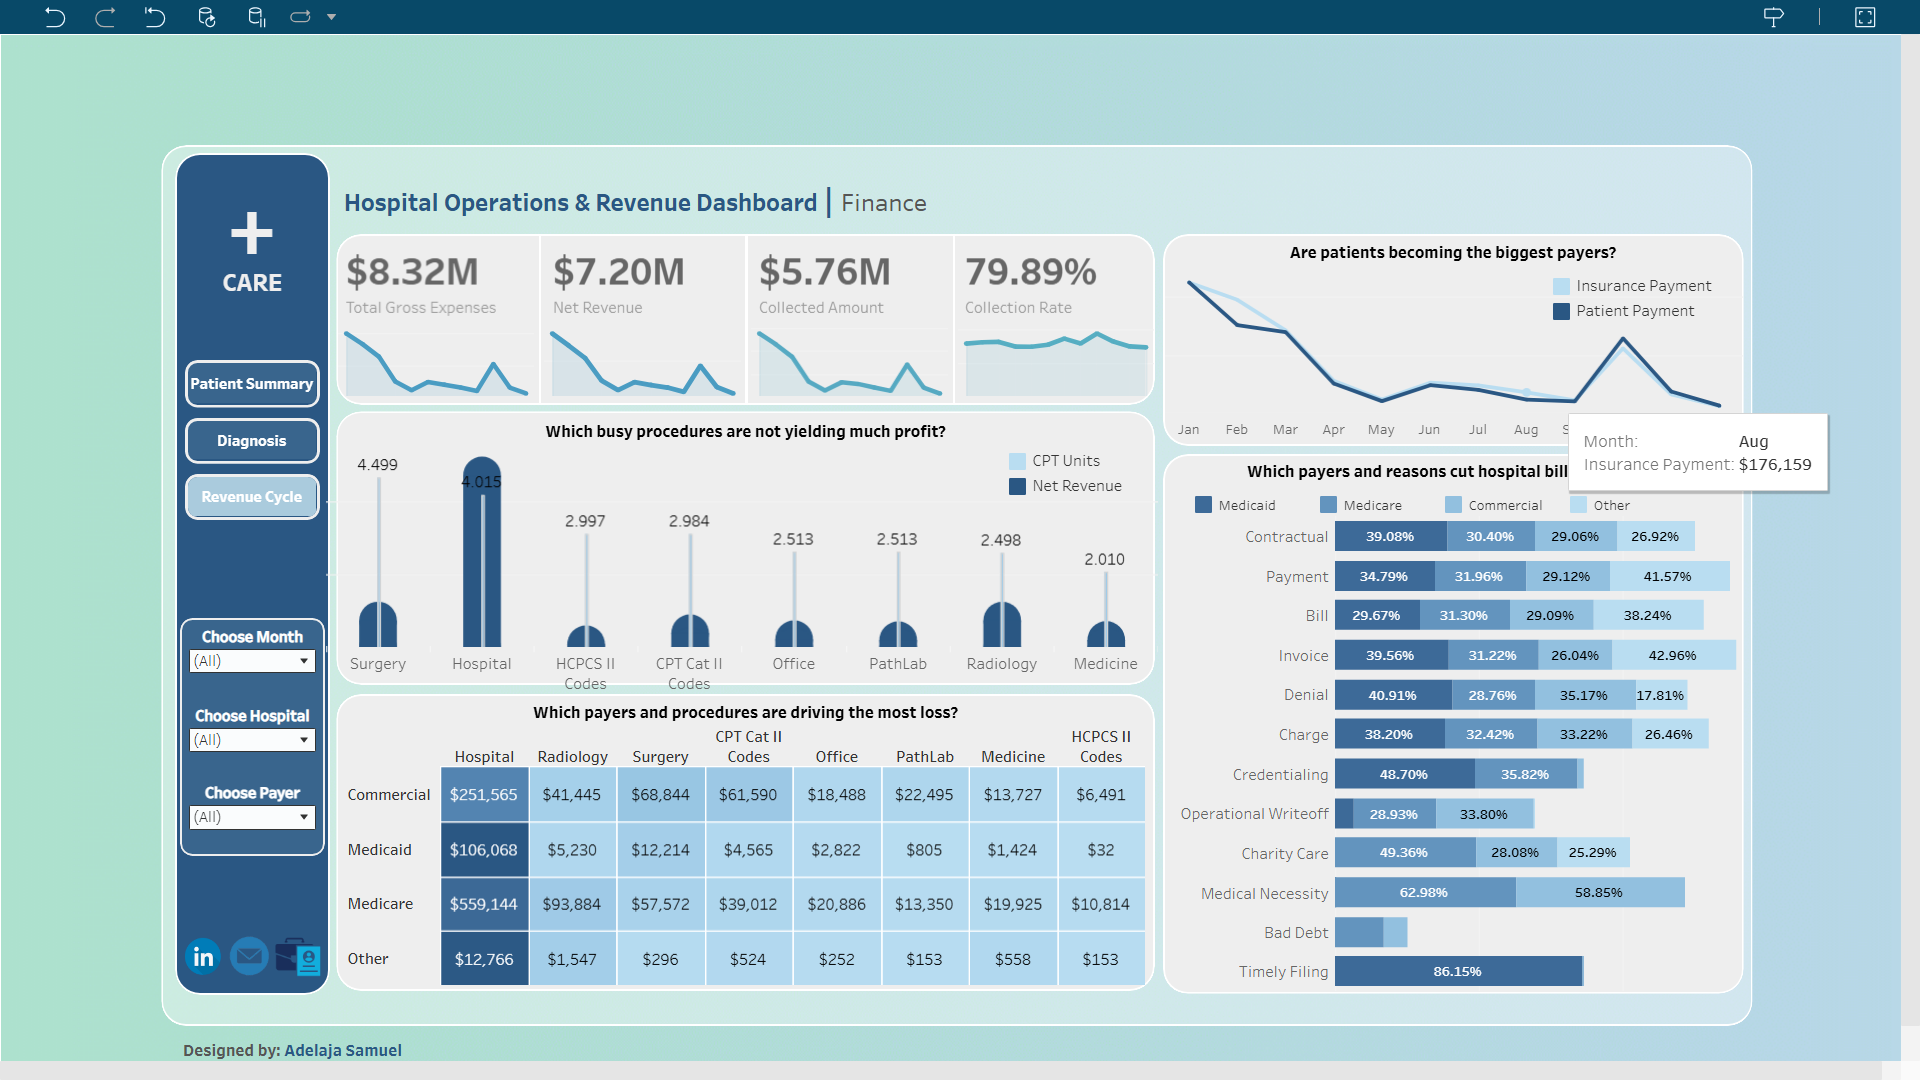

What the dashboard file says about the page in this screenshot:
{"tool":"tableau","page":{"name":"Finance","canvas":[1000,1000],"units":"permille","ordinal":1},"visuals":[{"type":"text","box":[179.2,116.3,414,78.7]},{"type":"text","box":[92.9,142.2,76.6,79.9]},{"type":"worksheet","title":"Total Gross Expences","mark":"Automatic","box":[175,181,107.4,102.2]},{"type":"worksheet","title":"Net Revenue","mark":"Automatic","box":[282.4,181,107.4,102.2]},{"type":"worksheet","title":"Collected Amount","mark":"Automatic","box":[389.9,181,107.4,102.2]},{"type":"worksheet","title":"Collected Rate","mark":"Automatic","box":[497.3,181,107.4,102.2]},{"type":"text","box":[607.1,181,299.3,47]},{"type":"blank","box":[280.6,189.2,1.2,159.8]},{"type":"blank","box":[388.1,189.2,1.2,159.8]},{"type":"blank","box":[496.1,189.2,1.2,159.8]},{"type":"text","box":[93.5,212.7,75.4,40]},{"type":"worksheet","title":"Patient vs Insurance Pay.","mark":"Line","rows":["Calculation_0639937942523905","Calculation_0639937943330818"],"cols":["Month"],"box":[606.5,225.6,301.2,155.1]},{"type":"legend","title":"Patient vs Insurance Pay.","param":"[federated.0z8uwsd0tka1uq18ebl20149izpv].[:Measure Names]","box":[806.9,225.6,102.6,57.6]},{"type":"worksheet","title":"Total Gross Spark","mark":"Line","rows":["Calculation_0639937941671936","Calculation_0639937941671936"],"cols":["Month"],"box":[173.2,271.4,107.6,74]},{"type":"worksheet","title":"Net Revenue Spark","mark":"Area","rows":["Calculation_0346372984979461","Calculation_0346372984979461"],"cols":["Month"],"box":[280.8,271.4,107.6,74]},{"type":"worksheet","title":"Collected Amt Spark","mark":"Automatic","rows":["Calculation_0870012787228673","Calculation_0870012787228673"],"cols":["Month"],"box":[388.5,271.4,107.6,74]},{"type":"worksheet","title":"Collection Rate Spark","mark":"Line","rows":["Calculation_0608331872194561","Calculation_0608331872194561"],"cols":["Month"],"box":[496.1,271.4,107.6,74]},{"type":"dashboard-object","box":[93.5,302,76,54.1]},{"type":"text","box":[177.4,349,421.2,47]},{"type":"dashboard-object","box":[93.5,356.1,76,52.9]},{"type":"text","box":[607.1,386.6,299.3,47]},{"type":"worksheet","title":"CPT Vol vs Net Rev","mark":"Line","rows":["CPTUnits"],"cols":["CptGrouping"],"box":[170.2,387.8,432.7,236.2]},{"type":"legend","title":"CPT vs Net Rev Legend","param":"[federated.0z8uwsd0tka1uq18ebl20149izpv].[:Measure Names]","box":[523.2,390.1,77.9,51.7]},{"type":"dashboard-object","box":[93.5,408.9,76,52.9]},{"type":"worksheet","title":"CPT vs Net Rev Legend","mark":"Line","rows":["Calculation_0346372984979461","CPTUnits"],"cols":["Month"],"box":[221.5,420.7,333.1,332.6]},{"type":"legend","title":"AR by Payer","param":"[federated.0z8uwsd0tka1uq18ebl20149izpv].[none:PayerName:nk]","box":[620.4,431.3,264.3,32.9]},{"type":"worksheet","title":"AR by Payer","mark":"Automatic","rows":["AdjustmentReason"],"cols":["Calculation_0608331860324352"],"box":[604.1,453.6,310.8,447.7]},{"type":"worksheet","title":"Filters","mark":"Automatic","box":[81.5,533.5,333.1,332.6]},{"type":"filter","title":"Filters","param":"[federated.0z8uwsd0tka1uq18ebl20149izpv].[none:Month:nk]","box":[94.8,552.3,73.6,74]},{"type":"text","box":[177.4,614.6,421.2,47]},{"type":"filter","title":"Filters","param":"[federated.0z8uwsd0tka1uq18ebl20149izpv].[none:LocationName:nk]","box":[94.8,626.3,73.6,72.9]},{"type":"worksheet","title":"Loss","mark":"Square","rows":["PayerName"],"cols":["CptGrouping"],"box":[176.8,642.8,419.4,252.6]},{"type":"filter","title":"Filters","param":"[federated.0z8uwsd0tka1uq18ebl20149izpv].[none:PayerName:nk]","box":[94.8,699.2,73.6,72.9]},{"type":"image","param":"C:/Users/HomePC/Pictures/Projects/socials/trans gmail.png","box":[107.4,828.4,44.7,78.7]},{"type":"image","param":"C:/Users/HomePC/Pictures/Projects/socials/social_16033412.png","box":[96.6,847.2,18.7,42.3]},{"type":"image","param":"C:/Users/HomePC/Pictures/Projects/socials/portfolio_18526710.png","box":[143,847.2,24.1,43.5]},{"type":"text","box":[81.5,937.7,141.8,35.2]}]}

Visuals, with their boxes on the dashboard's canvas, which has no fixed pixel size, in thousandths of its width and height (x1, y1, x2, y2). These are canvas units, not pixel positions in the 1920x1080 screenshot, which may show the page scaled, cropped or inside an application window:
text: x1=179 y1=116 x2=593 y2=195
text: x1=93 y1=142 x2=170 y2=222
"Total Gross Expences" worksheet: x1=175 y1=181 x2=282 y2=283
"Net Revenue" worksheet: x1=282 y1=181 x2=390 y2=283
"Collected Amount" worksheet: x1=390 y1=181 x2=497 y2=283
"Collected Rate" worksheet: x1=497 y1=181 x2=605 y2=283
text: x1=607 y1=181 x2=906 y2=228
blank: x1=281 y1=189 x2=282 y2=349
blank: x1=388 y1=189 x2=389 y2=349
blank: x1=496 y1=189 x2=497 y2=349
text: x1=94 y1=213 x2=169 y2=253
"Patient vs Insurance Pay." worksheet (Line marks): x1=606 y1=226 x2=908 y2=381
"Patient vs Insurance Pay." legend: x1=807 y1=226 x2=910 y2=283
"Total Gross Spark" worksheet (Line marks): x1=173 y1=271 x2=281 y2=345
"Net Revenue Spark" worksheet (Area marks): x1=281 y1=271 x2=388 y2=345
"Collected Amt Spark" worksheet: x1=388 y1=271 x2=496 y2=345
"Collection Rate Spark" worksheet (Line marks): x1=496 y1=271 x2=604 y2=345
dashboard-object: x1=94 y1=302 x2=170 y2=356
text: x1=177 y1=349 x2=599 y2=396
dashboard-object: x1=94 y1=356 x2=170 y2=409
text: x1=607 y1=387 x2=906 y2=434
"CPT Vol vs Net Rev" worksheet (Line marks): x1=170 y1=388 x2=603 y2=624
"CPT vs Net Rev Legend" legend: x1=523 y1=390 x2=601 y2=442
dashboard-object: x1=94 y1=409 x2=170 y2=462
"CPT vs Net Rev Legend" worksheet (Line marks): x1=222 y1=421 x2=555 y2=753
"AR by Payer" legend: x1=620 y1=431 x2=885 y2=464
"AR by Payer" worksheet: x1=604 y1=454 x2=915 y2=901
"Filters" worksheet: x1=82 y1=534 x2=415 y2=866
"Filters" filter: x1=95 y1=552 x2=168 y2=626
text: x1=177 y1=615 x2=599 y2=662
"Filters" filter: x1=95 y1=626 x2=168 y2=699
"Loss" worksheet (Square marks): x1=177 y1=643 x2=596 y2=895
"Filters" filter: x1=95 y1=699 x2=168 y2=772
image: x1=107 y1=828 x2=152 y2=907
image: x1=97 y1=847 x2=115 y2=890
image: x1=143 y1=847 x2=167 y2=891
text: x1=82 y1=938 x2=223 y2=973
